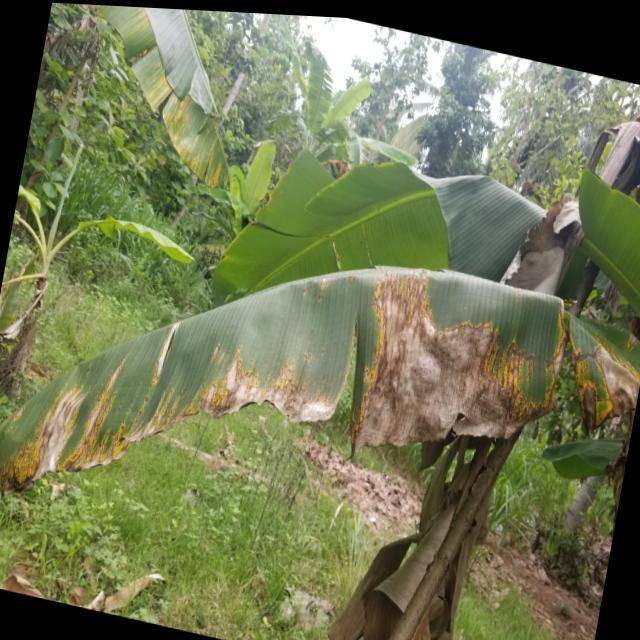Early_rust: (0, 281, 640, 520), (110, 0, 255, 213)
